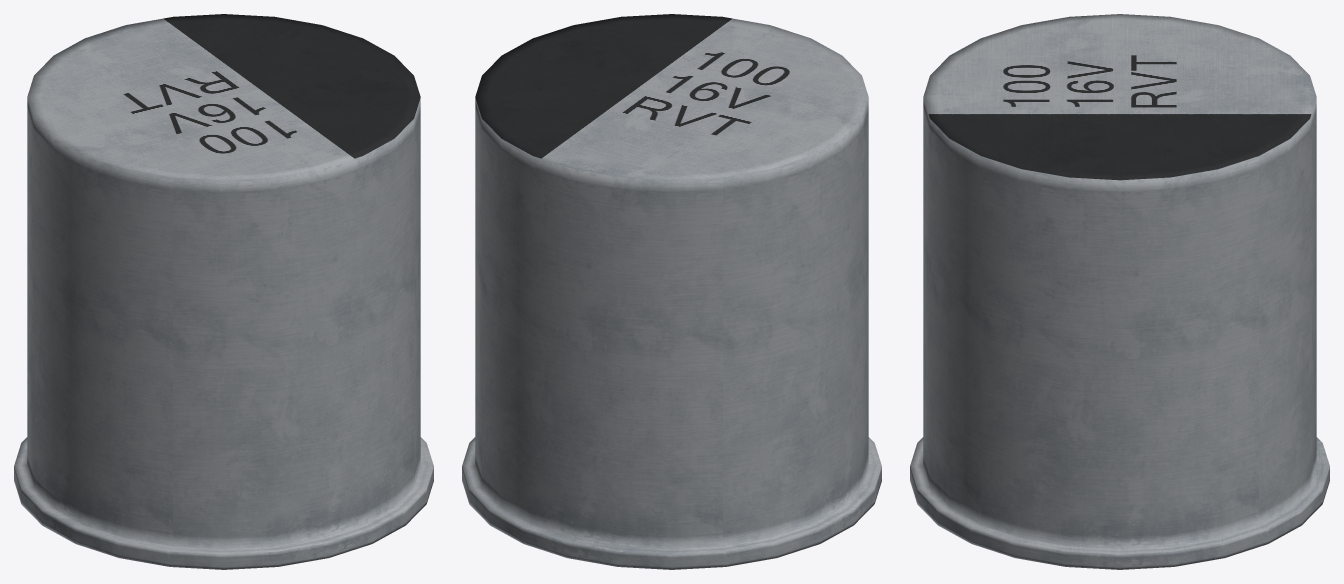
File: Al-Electrolytic-Capacitor.obj
3 views of the same model, side by side, from view 1: azimuth 30°, elevation 25°; view 2: azimuth 150°, elevation 25°; view 3: azimuth 270°, elevation 25° (orthographic).
Parts seen in each view (by area): view 1: Al-Electrolytic-Capacitor; view 2: Al-Electrolytic-Capacitor; view 3: Al-Electrolytic-Capacitor.
Part boxes in pixels (x1,y1,x2,y2): Al-Electrolytic-Capacitor: [14, 14, 433, 569]; Al-Electrolytic-Capacitor: [462, 14, 881, 569]; Al-Electrolytic-Capacitor: [910, 14, 1329, 569].
Bounding box in the file's own units: 0.16 × 0.1616 × 0.16.
